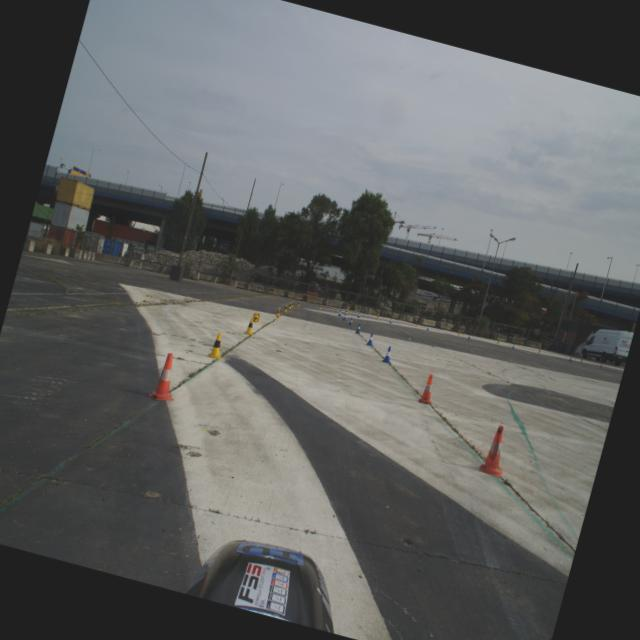blue_cone: (381, 345, 394, 364), (365, 332, 376, 346), (354, 322, 362, 333), (348, 317, 353, 326), (342, 313, 346, 320), (356, 313, 361, 318), (338, 310, 342, 316), (568, 356, 572, 362), (426, 325, 430, 330), (388, 318, 392, 322), (467, 334, 471, 338), (511, 344, 515, 348)
orange_cone: (147, 350, 185, 404), (478, 422, 514, 478), (418, 372, 438, 406), (598, 362, 604, 369)
yellow_cone: (206, 330, 228, 360), (243, 316, 257, 336), (274, 306, 282, 318), (251, 312, 260, 322), (282, 304, 288, 312), (287, 302, 292, 310), (290, 300, 294, 308), (343, 308, 348, 314), (456, 330, 461, 336), (296, 300, 300, 307), (376, 314, 380, 320), (318, 304, 322, 309), (579, 357, 583, 362), (414, 322, 418, 326), (496, 340, 500, 344), (537, 348, 541, 352)
